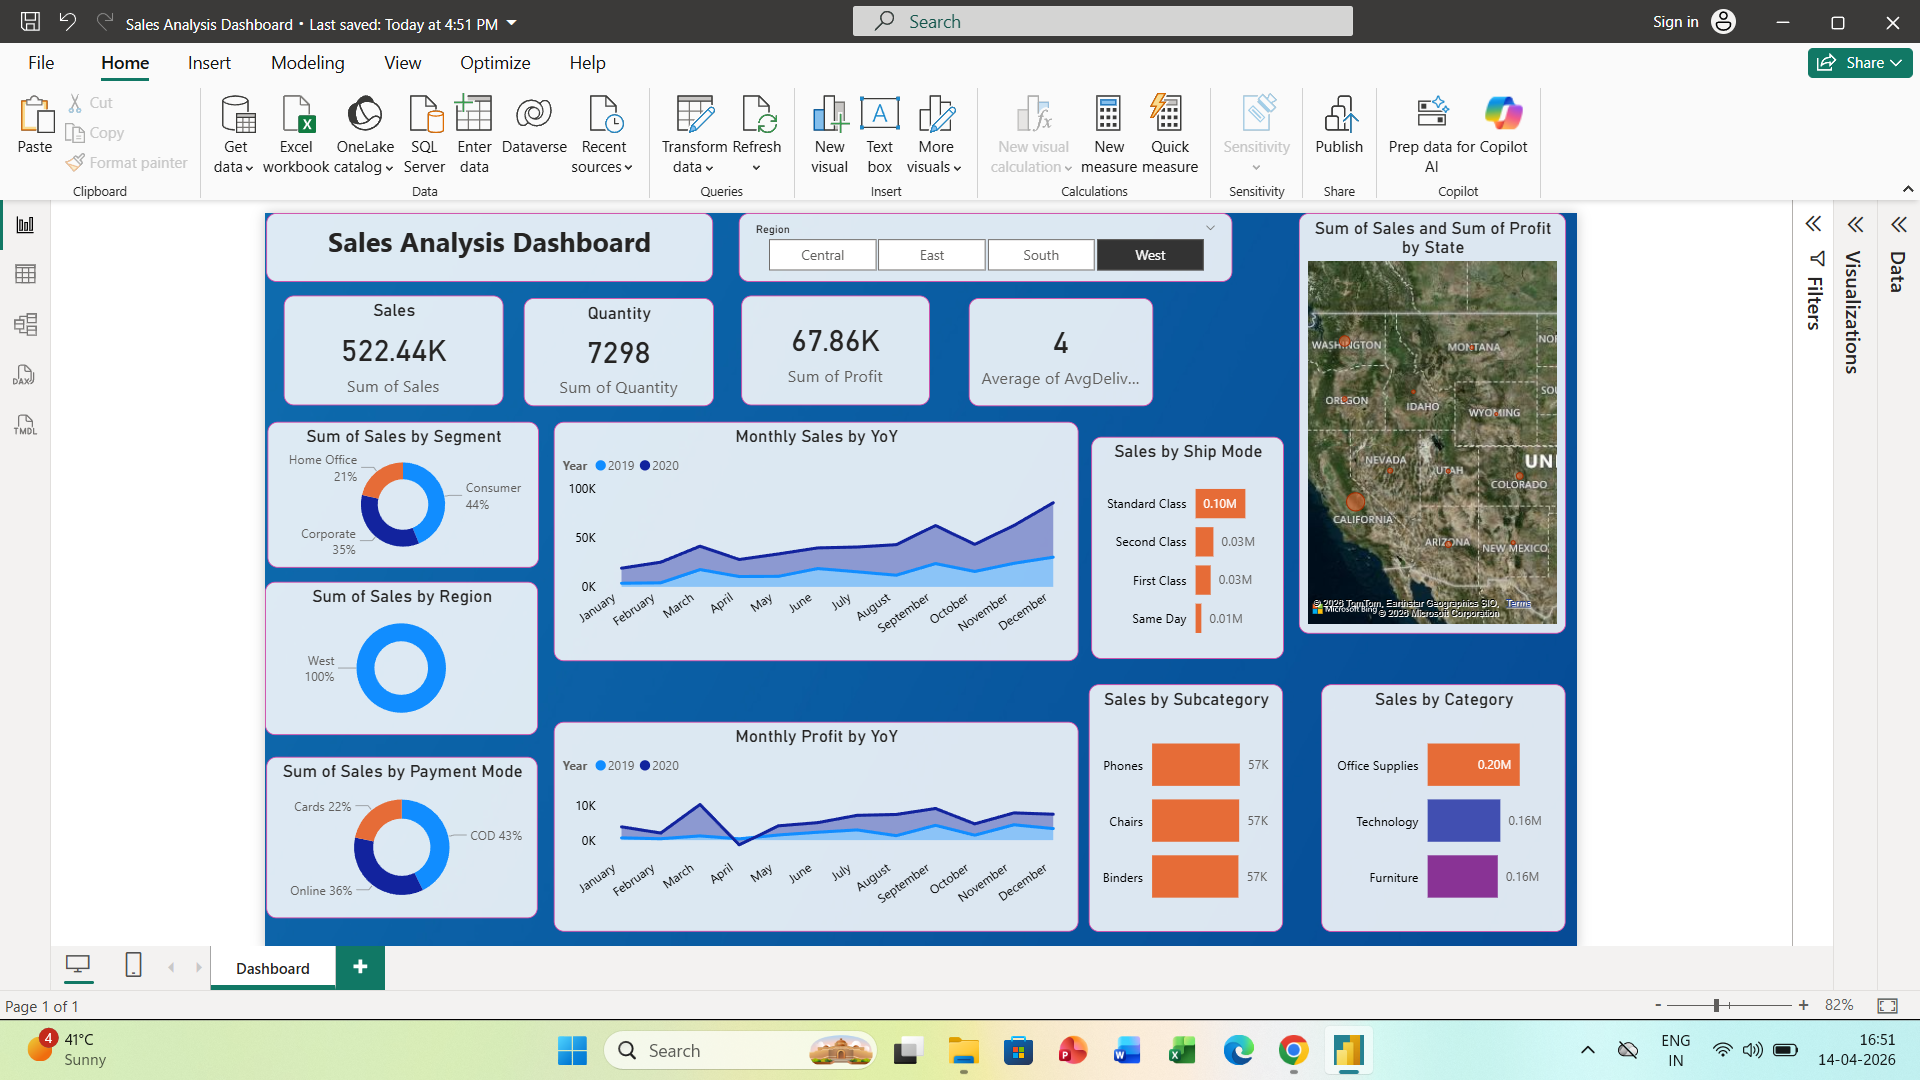

What the dashboard file says about the page in this screenshot:
{"tool":"powerbi","page":{"name":"Dashboard","canvas":[1280,720],"ordinal":0},"visuals":[{"type":"clusteredBarChart","title":"Sales by Category","fields":{"Category":["SuperStore_Sales_Dataset.Category"],"Y":["Sum(SuperStore_Sales_Dataset.Sales)"]},"box":[1030.5,459.7,238.8,241.5],"z":0},{"type":"clusteredBarChart","title":"Sales by Subcategory","fields":{"Category":["SuperStore_Sales_Dataset.Sub-Category"],"Y":["Sum(SuperStore_Sales_Dataset.Sales)"]},"box":[804.1,459.7,189.4,241.5],"z":1000},{"type":"clusteredBarChart","title":"Sales by Ship Mode","fields":{"Category":["SuperStore_Sales_Dataset.Ship Mode"],"Y":["Sum(SuperStore_Sales_Dataset.Sales)"]},"box":[805.5,218.2,188,216.8],"z":2000},{"type":"stackedAreaChart","title":"Monthly Sales by YoY ","fields":{"Y":["Sum(SuperStore_Sales_Dataset.Sales)"],"Category":["SuperStore_Sales_Dataset.Order Date.Variation.Date Hierarchy.Month","SuperStore_Sales_Dataset.Order Date.Variation.Date Hierarchy.Day"],"Series":["SuperStore_Sales_Dataset.Order Date.Variation.Date Hierarchy.Year"]},"box":[281.3,203.1,511.8,233.3],"z":3000},{"type":"stackedAreaChart","title":"Monthly Profit by YoY ","fields":{"Category":["SuperStore_Sales_Dataset.Order Date.Variation.Date Hierarchy.Month","SuperStore_Sales_Dataset.Order Date.Variation.Date Hierarchy.Day"],"Series":["SuperStore_Sales_Dataset.Order Date.Variation.Date Hierarchy.Year"],"Y":["Sum(SuperStore_Sales_Dataset.Profit)"]},"box":[281.3,496.7,511.8,204.5],"z":4000},{"type":"map","fields":{"Category":["SuperStore_Sales_Dataset.State"],"Size":["Sum(SuperStore_Sales_Dataset.Sales)"]},"box":[1008.6,0,260.7,410.3],"z":5000},{"type":"donutChart","fields":{"Category":["SuperStore_Sales_Dataset.Segment"],"Y":["Sum(SuperStore_Sales_Dataset.Sales)"]},"box":[2.7,203.1,264.8,142.7],"z":6000},{"type":"donutChart","fields":{"Category":["SuperStore_Sales_Dataset.Region"],"Y":["Sum(SuperStore_Sales_Dataset.Sales)"]},"box":[0,359.5,266.2,149.6],"z":7000},{"type":"donutChart","fields":{"Category":["SuperStore_Sales_Dataset.Payment Mode"],"Y":["Sum(SuperStore_Sales_Dataset.Sales)"]},"box":[1.4,531,264.8,157.8],"z":8000},{"type":"slicer","fields":{"Values":["SuperStore_Sales_Dataset.Region"]},"box":[462.4,0,481.6,67.2],"z":9000},{"type":"textbox","box":[1.4,0,436.4,67.2],"z":10000},{"type":"card","title":"Sales","fields":{"Values":["Sum(SuperStore_Sales_Dataset.Sales)"]},"box":[17.8,81,214.1,107],"z":11000},{"type":"card","title":"Quantity","fields":{"Values":["Sum(SuperStore_Sales_Dataset.Quantity)"]},"box":[252.5,82.3,185.2,105.7],"z":12000},{"type":"card","title":"profit","fields":{"Values":["Sum(SuperStore_Sales_Dataset.Profit)"]},"box":[465.2,81,183.9,107],"z":13000},{"type":"card","title":"AvgDelivery","fields":{"Values":["Avg(SuperStore_Sales_Dataset.AvgDelivery)"]},"box":[686.1,82.3,179.8,105.7],"z":14000}]}

Visuals, with their boxes on the page's 1280x720 design canvas (x1, y1, x2, y2). These are canvas units, not pixel positions in the 1920x1080 screenshot, which may show the page scaled, cropped or inside an application window:
"Sales by Category" clusteredBarChart: l=1030, t=460, r=1269, b=701
"Sales by Subcategory" clusteredBarChart: l=804, t=460, r=994, b=701
"Sales by Ship Mode" clusteredBarChart: l=806, t=218, r=994, b=435
"Monthly Sales by YoY " stackedAreaChart: l=281, t=203, r=793, b=436
"Monthly Profit by YoY " stackedAreaChart: l=281, t=497, r=793, b=701
map - SuperStore_Sales_Dataset.State x Sum(SuperStore_Sales_Dataset.Sales): l=1009, t=0, r=1269, b=410
donutChart - SuperStore_Sales_Dataset.Segment x Sum(SuperStore_Sales_Dataset.Sales): l=3, t=203, r=268, b=346
donutChart - SuperStore_Sales_Dataset.Region x Sum(SuperStore_Sales_Dataset.Sales): l=0, t=360, r=266, b=509
donutChart - SuperStore_Sales_Dataset.Payment Mode x Sum(SuperStore_Sales_Dataset.Sales): l=1, t=531, r=266, b=689
slicer - SuperStore_Sales_Dataset.Region: l=462, t=0, r=944, b=67
textbox: l=1, t=0, r=438, b=67
"Sales" card: l=18, t=81, r=232, b=188
"Quantity" card: l=252, t=82, r=438, b=188
"profit" card: l=465, t=81, r=649, b=188
"AvgDelivery" card: l=686, t=82, r=866, b=188
